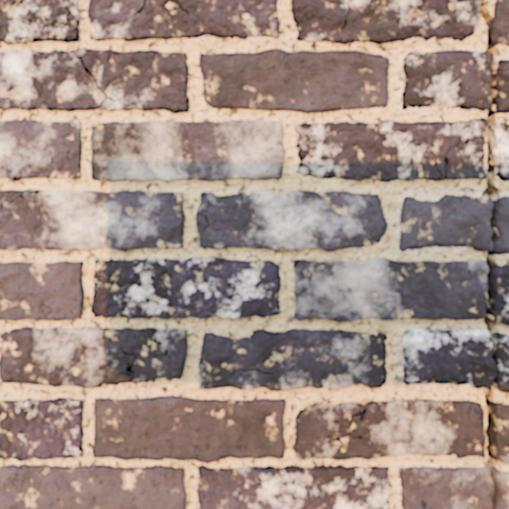brick: (93, 396, 285, 462), (295, 118, 486, 181), (294, 258, 486, 320), (200, 49, 388, 112), (0, 49, 188, 111), (91, 120, 283, 180), (294, 399, 485, 459), (199, 329, 386, 390), (91, 258, 281, 318), (0, 327, 187, 387), (196, 191, 386, 250), (0, 191, 183, 250), (197, 465, 391, 508), (292, 0, 481, 43), (0, 465, 185, 508), (88, 0, 279, 40), (0, 398, 82, 460), (0, 261, 83, 320), (0, 120, 80, 179), (0, 0, 41, 43), (22, 0, 66, 39), (493, 265, 508, 324), (495, 404, 508, 463), (492, 0, 508, 45), (63, 0, 79, 40), (496, 129, 508, 180), (0, 189, 29, 200), (494, 123, 504, 136), (102, 100, 109, 108)
broken_brick: (401, 49, 491, 111), (402, 329, 495, 389), (398, 194, 491, 251), (398, 465, 492, 508), (495, 332, 508, 393), (496, 195, 508, 255), (499, 59, 508, 113), (498, 470, 508, 508)
crack: (479, 0, 508, 508), (76, 54, 125, 109), (425, 134, 472, 180), (116, 348, 172, 381), (19, 0, 46, 40), (0, 189, 43, 212), (196, 198, 222, 229), (59, 0, 72, 41), (308, 261, 319, 297), (171, 0, 189, 15), (133, 0, 146, 16), (293, 259, 300, 267), (383, 492, 390, 495), (0, 220, 2, 228)
